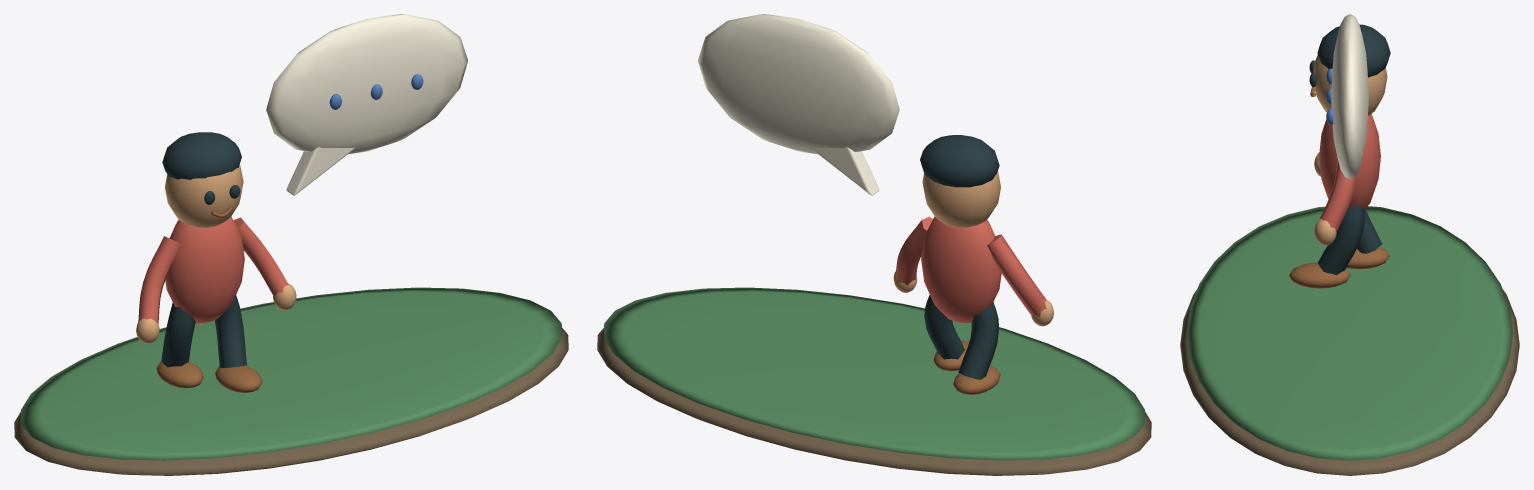
The model's file is child-sentence.glb.
3 renders of one model, left to right at view 1: azimuth 30°, elevation 25°; view 2: azimuth 150°, elevation 25°; view 3: azimuth 270°, elevation 25°, orthographic.
Parts seen in each view (by area): view 1: child-sentence_surface_01, child-sentence_surface_02, child-sentence_surface_00, child-sentence_surface_07, child-sentence_surface_05, child-sentence_surface_04, child-sentence_surface_06; view 2: child-sentence_surface_01, child-sentence_surface_02, child-sentence_surface_00, child-sentence_surface_07, child-sentence_surface_05, child-sentence_surface_04, child-sentence_surface_06; view 3: child-sentence_surface_01, child-sentence_surface_00, child-sentence_surface_02, child-sentence_surface_05, child-sentence_surface_07, child-sentence_surface_06, child-sentence_surface_04.
Boxes of the visible parts, x1,y1,x2,y2 form: child-sentence_surface_01: [21, 287, 561, 460]; child-sentence_surface_02: [266, 14, 467, 195]; child-sentence_surface_00: [14, 328, 568, 475]; child-sentence_surface_07: [138, 216, 288, 323]; child-sentence_surface_05: [161, 132, 246, 367]; child-sentence_surface_04: [136, 165, 296, 343]; child-sentence_surface_06: [156, 207, 262, 392]; child-sentence_surface_01: [604, 287, 1144, 460]; child-sentence_surface_02: [698, 14, 899, 195]; child-sentence_surface_00: [597, 328, 1151, 475]; child-sentence_surface_07: [896, 216, 1046, 322]; child-sentence_surface_05: [920, 135, 999, 379]; child-sentence_surface_04: [893, 171, 1053, 326]; child-sentence_surface_06: [933, 340, 1000, 394]; child-sentence_surface_01: [1187, 206, 1512, 460]; child-sentence_surface_00: [1180, 289, 1519, 475]; child-sentence_surface_02: [1331, 14, 1368, 179]; child-sentence_surface_05: [1309, 24, 1390, 274]; child-sentence_surface_07: [1318, 114, 1380, 232]; child-sentence_surface_06: [1289, 87, 1389, 288]; child-sentence_surface_04: [1313, 55, 1387, 245].
Size of the model in its own units: 4.56 by 3 by 2.5.
